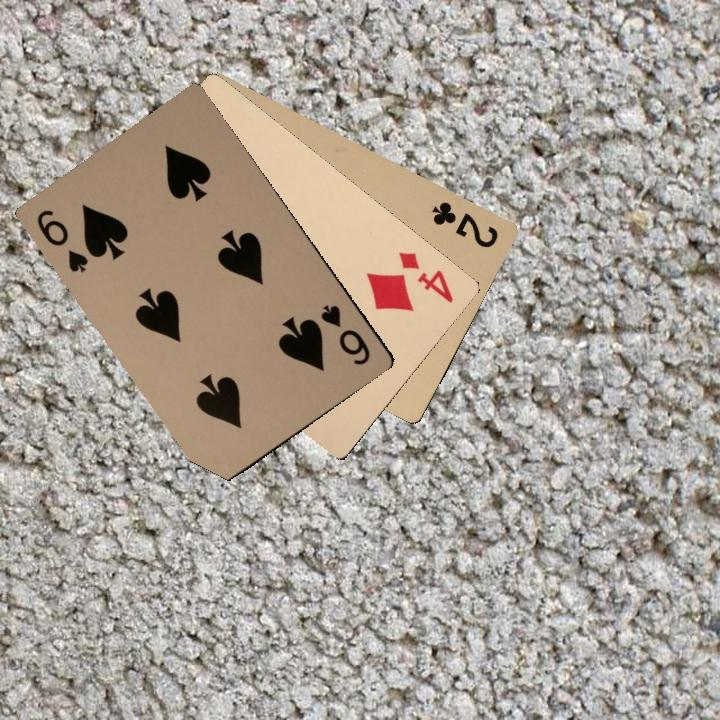2c: (427, 197, 501, 251)
4d: (394, 247, 457, 306)
6s: (32, 204, 91, 276), (316, 300, 373, 368)
